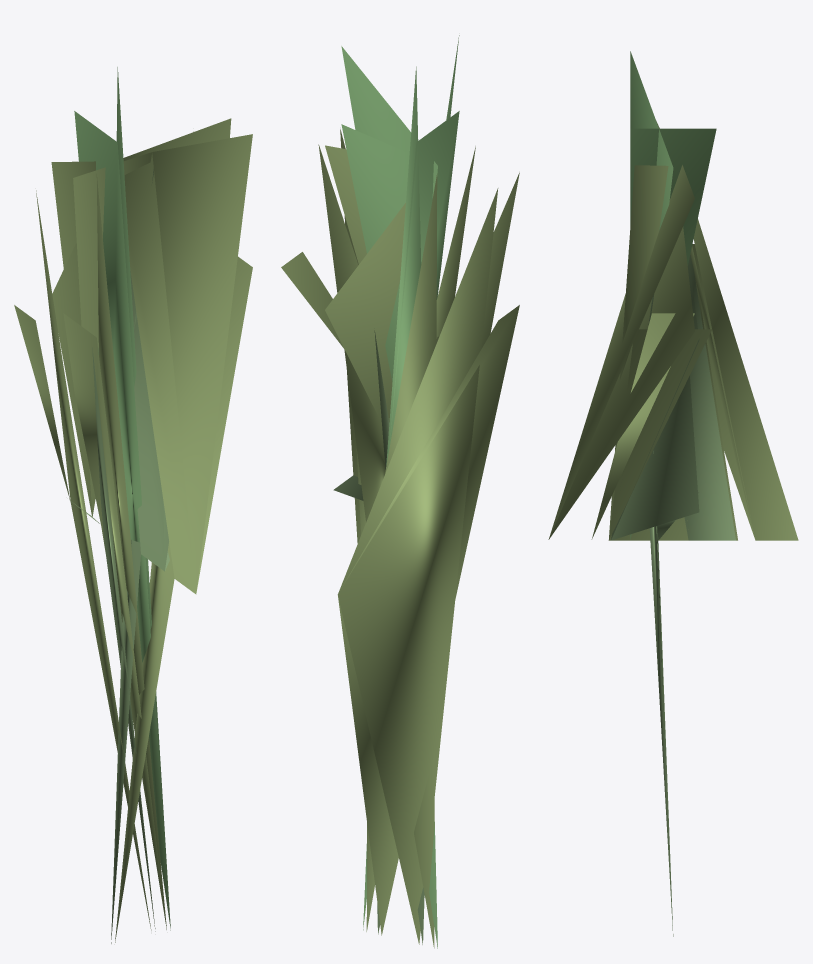
File: npc_goblin_idle.glb
3 renders of one model, left to right at view 1: azimuth 30°, elevation 25°; view 2: azimuth 150°, elevation 25°; view 3: azimuth 270°, elevation 25°, orthographic.
Parts seen in each view (by area): view 1: npc_goblin_idle; view 2: npc_goblin_idle; view 3: npc_goblin_idle.
Part boxes in pixels (x1=…): npc_goblin_idle: x1=14, y1=67, x2=252, y2=943; npc_goblin_idle: x1=281, y1=35, x2=519, y2=948; npc_goblin_idle: x1=548, y1=51, x2=798, y2=936.
Bounding box in the file's own units: 0.58 × 2.3 × 0.58.
